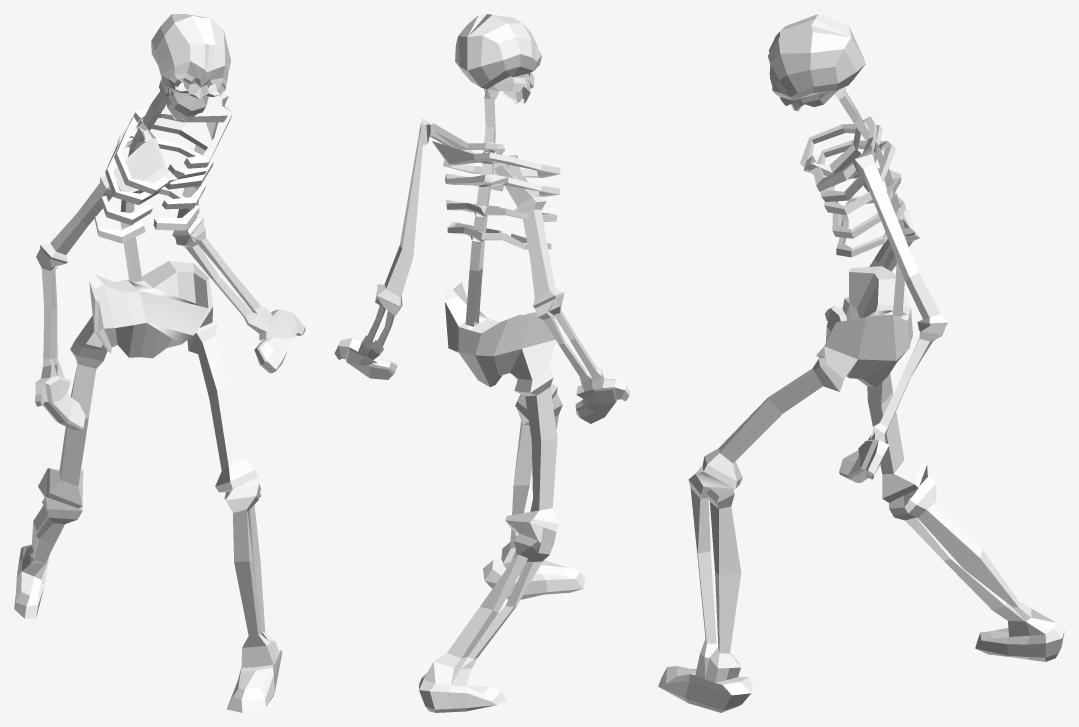
The model's file is SkeletonIdle(47).obj.
3 renders of one model, left to right at view 1: azimuth 30°, elevation 25°; view 2: azimuth 150°, elevation 25°; view 3: azimuth 270°, elevation 25°, orthographic. The views are drawn at different scales.
Parts seen in each view (by area): view 1: Object002; view 2: Object002; view 3: Object002.
Part boxes in pixels (left/top/right/bottom): Object002: left=14, top=14, right=305, bottom=712; Object002: left=334, top=14, right=629, bottom=712; Object002: left=658, top=14, right=1064, bottom=712.
Size of the model in its own units: 523 by 1116 by 610.
